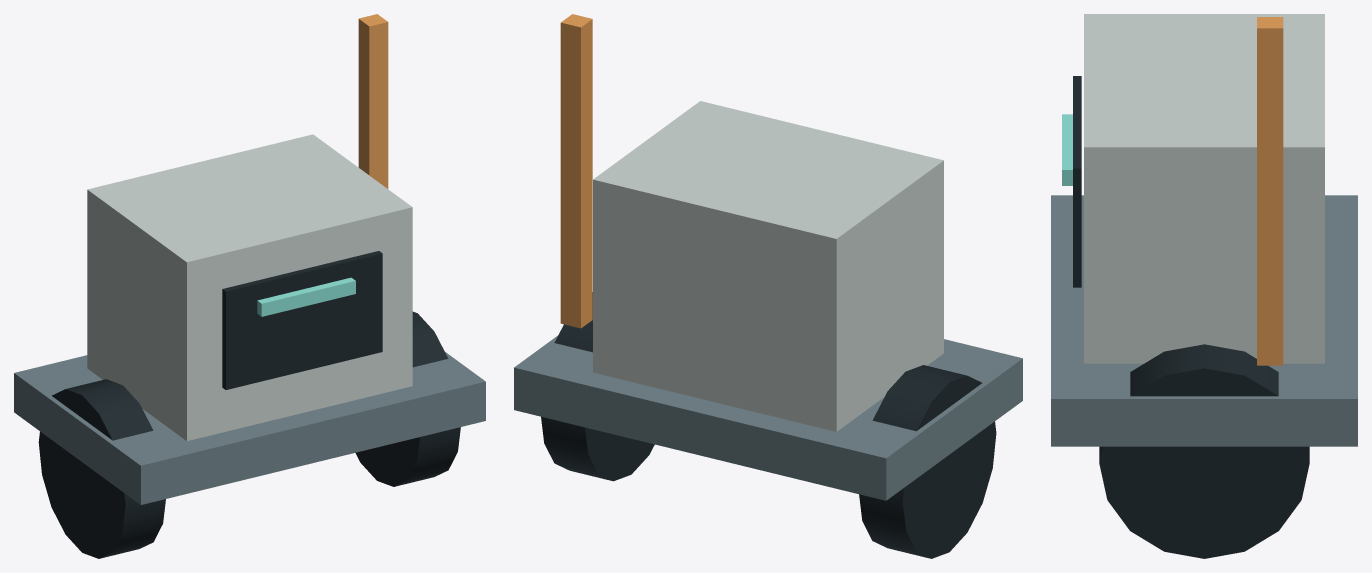
Rendered from battery-cart.glb.
3 renders of one model, left to right at view 1: azimuth 30°, elevation 25°; view 2: azimuth 150°, elevation 25°; view 3: azimuth 270°, elevation 25°, orthographic. The views are drawn at different scales.
Visible parts, largest first — view 1: battery_case, cart_deck, battery_panel, wheel_l, wheel_r, handle, battery_indicator; view 2: battery_case, cart_deck, wheel_l, handle, wheel_r; view 3: battery_case, cart_deck, wheel_r, handle, battery_panel, battery_indicator.
Part boxes in pixels (x1,y1,x2,y2): battery_case: (87,134,412,440); cart_deck: (14,352,485,504); battery_panel: (222,251,382,389); wheel_l: (38,379,165,558); wheel_r: (355,311,460,486); handle: (358,14,388,188); battery_indicator: (257,277,355,316); battery_case: (593,101,943,431); cart_deck: (514,335,1022,500); wheel_l: (859,365,996,558); handle: (560,14,592,328); wheel_r: (541,292,654,481); battery_case: (1084,14,1324,363); cart_deck: (1051,195,1357,446); wheel_r: (1099,344,1309,558); handle: (1257,17,1283,365); battery_panel: (1073,76,1081,287); battery_indicator: (1062,114,1072,185).
Bounding box in the file's own units: 1.1 × 1.33 × 0.7.
